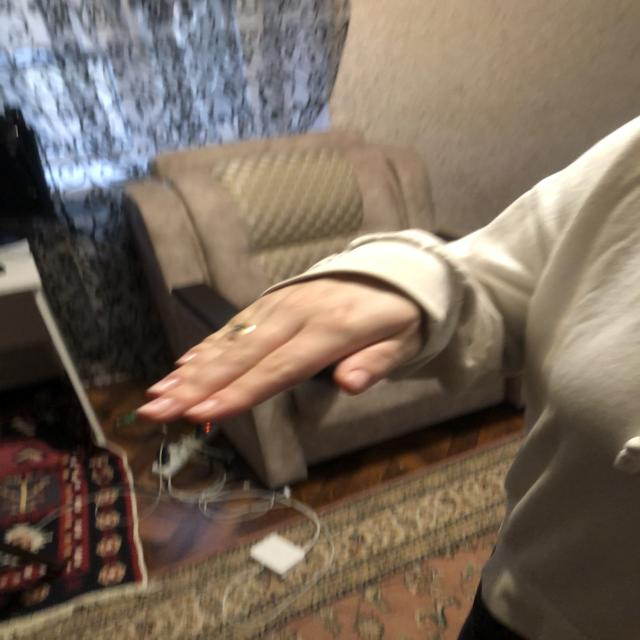paper: (143, 282, 435, 421)
